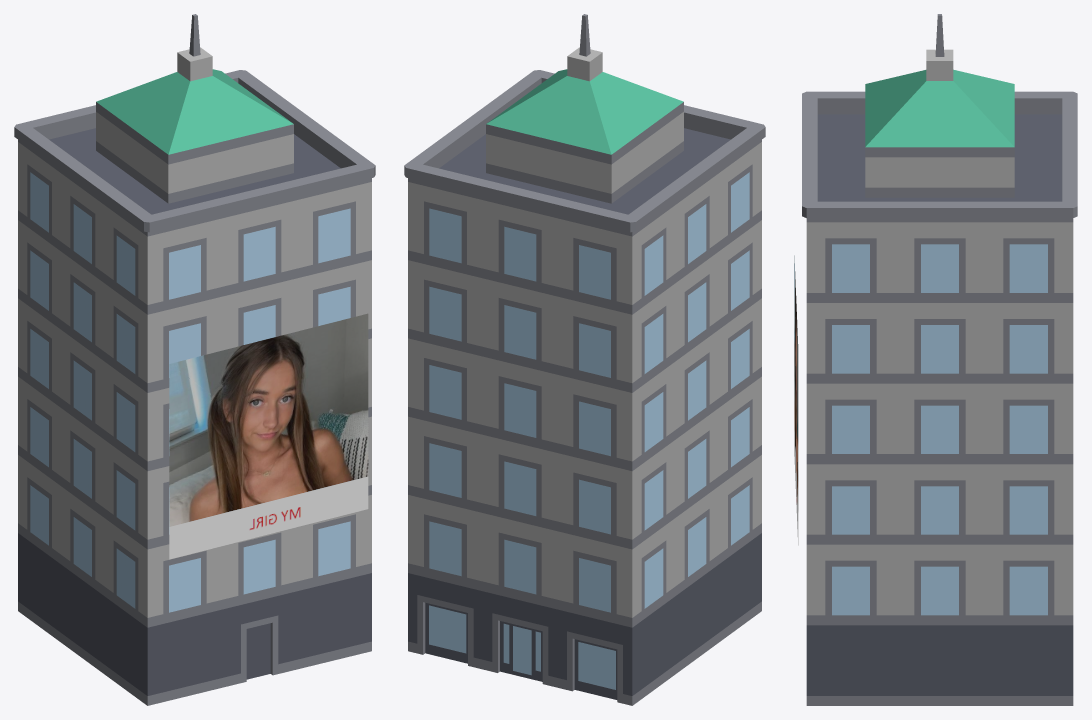
Rendered from Skyscraper.glb.
3 views of the same model, side by side, from view 1: azimuth 30°, elevation 25°; view 2: azimuth 150°, elevation 25°; view 3: azimuth 270°, elevation 25° (orthographic). The views are drawn at different scales.
Parts seen in each view (by area): view 1: skyscraperE, jennifermygirl; view 2: skyscraperE; view 3: skyscraperE, jennifermygirl.
Boxes of the visible parts, <box> form: skyscraperE: <box>14,14,375,705</box>; jennifermygirl: <box>169,313,368,559</box>; skyscraperE: <box>404,14,765,705</box>; skyscraperE: <box>802,14,1077,705</box>; jennifermygirl: <box>794,255,798,545</box>.
Size of the model in its own units: 1.24 by 3.15 by 1.28.
7 materials, 1 textured.
